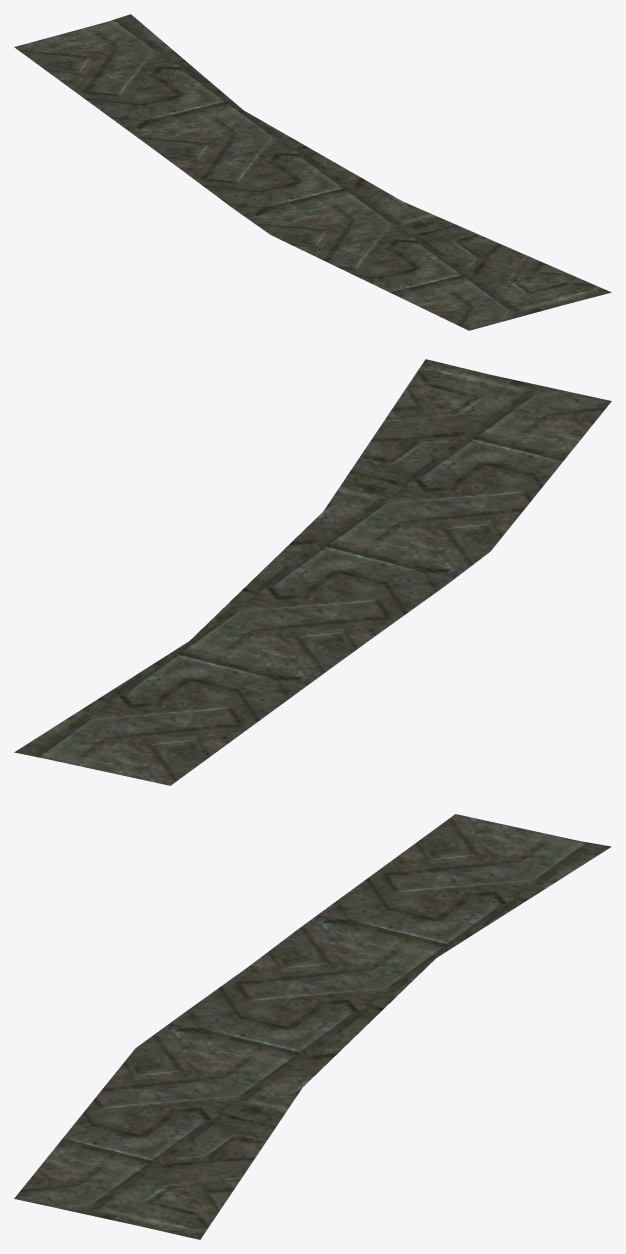
File: CH09_SMAUG_PLAYSURFACE_LAIR501.fbx
3 renders of one model, top to bottom at view 1: azimuth 30°, elevation 25°; view 2: azimuth 150°, elevation 25°; view 3: azimuth 330°, elevation 25°, orthographic. The views are drawn at different scales.
Parts seen in each view (by area): view 1: CH09_SMAUG_PLAYSURFACE_LAIR501; view 2: CH09_SMAUG_PLAYSURFACE_LAIR501; view 3: CH09_SMAUG_PLAYSURFACE_LAIR501.
Boxes of the visible parts, box(x1,y1,x2,y2) form: CH09_SMAUG_PLAYSURFACE_LAIR501: box(14, 14, 611, 330); CH09_SMAUG_PLAYSURFACE_LAIR501: box(14, 359, 611, 785); CH09_SMAUG_PLAYSURFACE_LAIR501: box(14, 814, 611, 1239).
Bounding box in the file's own units: 34728 × 154 × 124682.
1 material, 1 textured.
